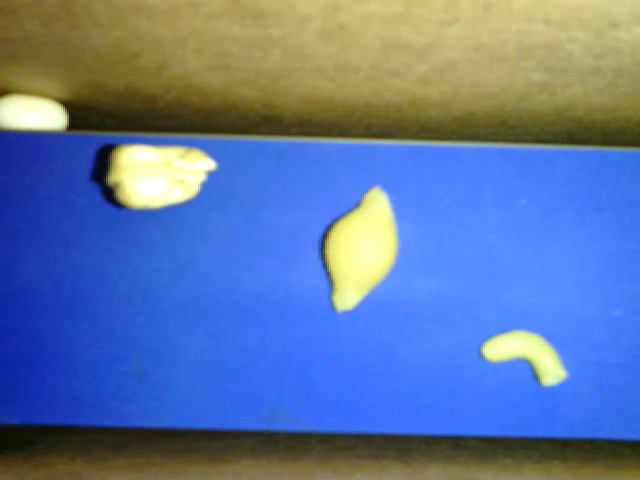elbow: (481, 328, 568, 389)
shell: (318, 182, 401, 316)
tortellini: (105, 143, 219, 212)
